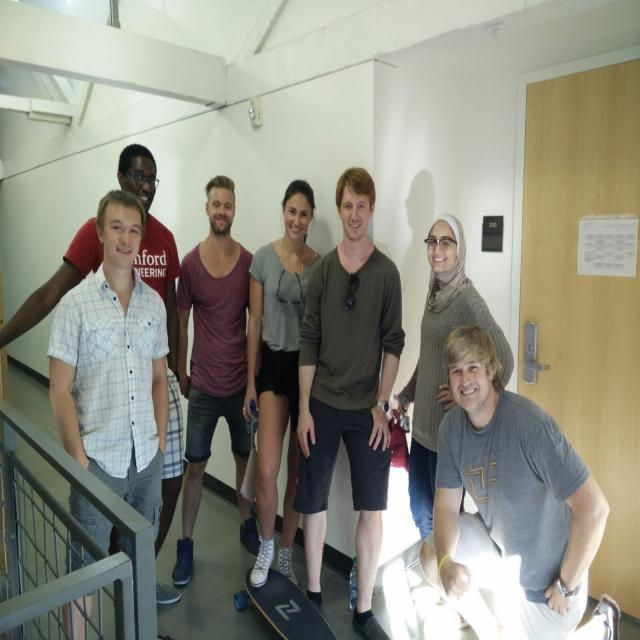body: (0, 138, 187, 608), (416, 322, 624, 640), (44, 185, 173, 640), (295, 162, 408, 640), (388, 211, 516, 540), (169, 172, 269, 590), (240, 176, 327, 596)
